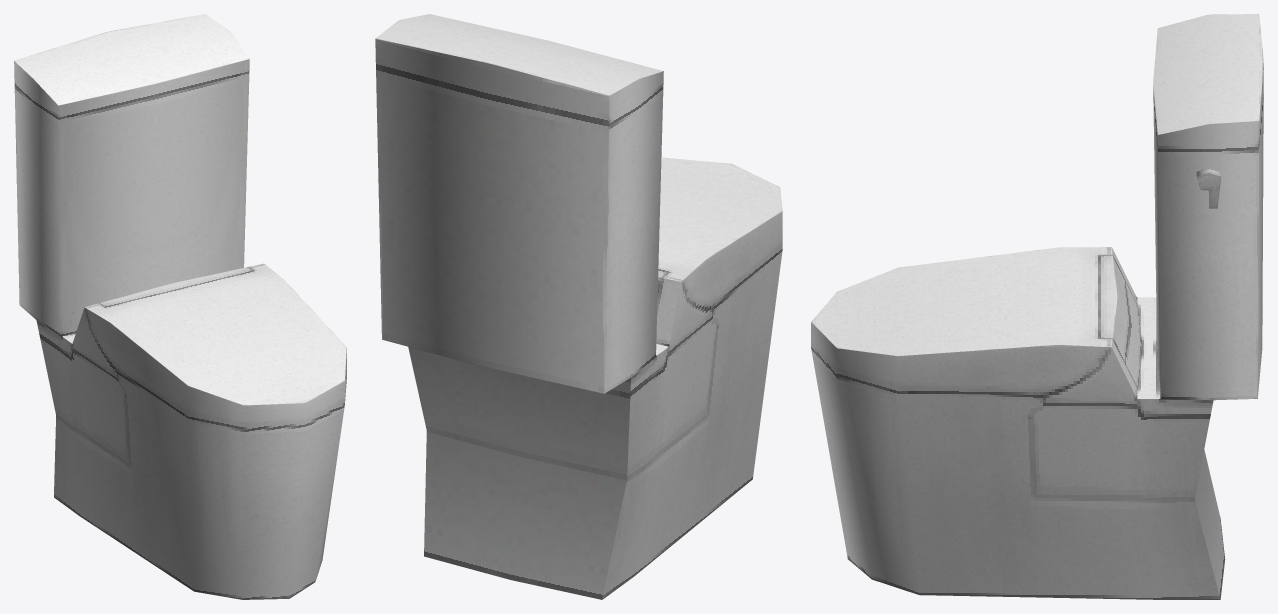
Rendered from Toilet.glb.
3 renders of one model, left to right at view 1: azimuth 30°, elevation 25°; view 2: azimuth 150°, elevation 25°; view 3: azimuth 270°, elevation 25°, orthographic. The views are drawn at different scales.
Visible parts, largest first — view 1: toilet; view 2: toilet; view 3: toilet.
Boxes of the visible parts, x1,y1,x2,y2 form: toilet: (14, 14, 346, 599); toilet: (375, 14, 782, 599); toilet: (811, 14, 1263, 599).
Bounding box in the file's own units: 0.3868 × 0.7839 × 0.6474.
1 material, 1 textured.
